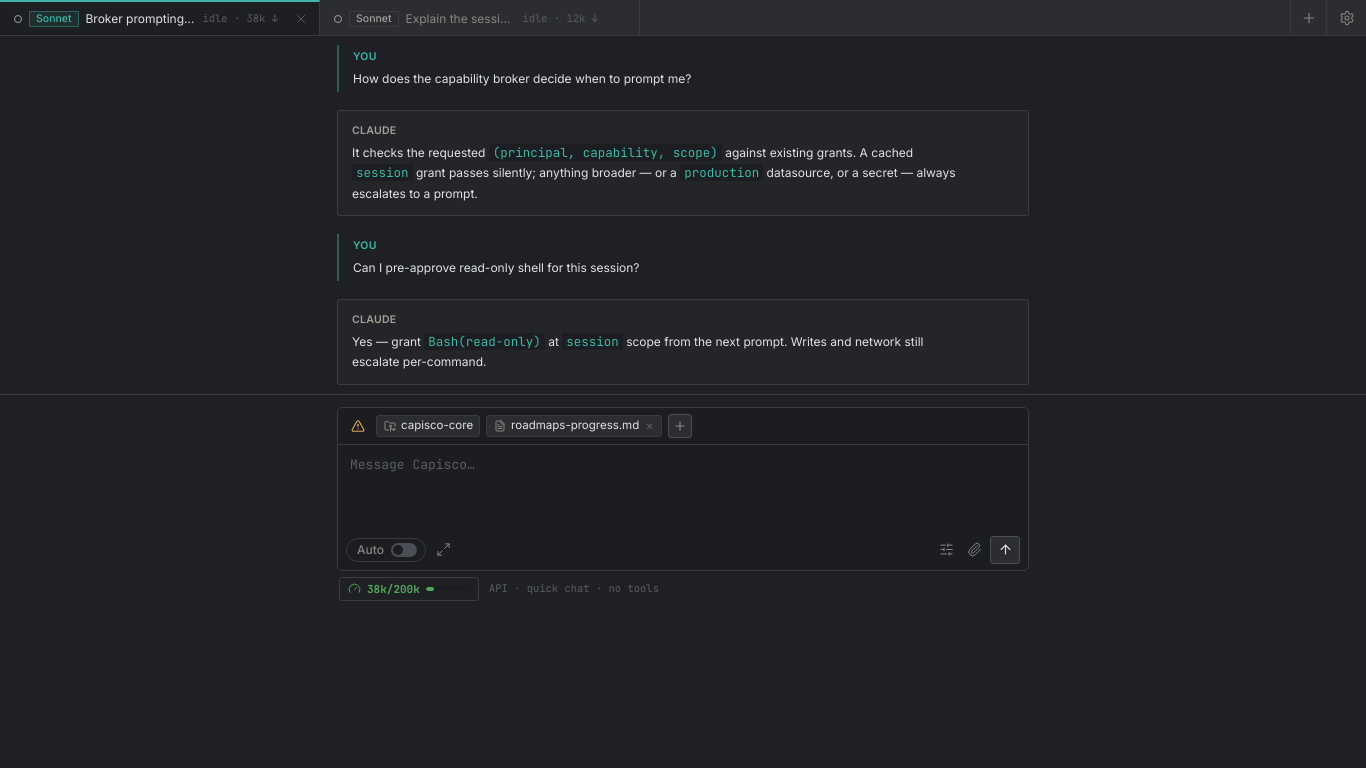
Test: ChatWorkspace — parameterized Agents component (Design-Sync P3) › creates a chat session titled 'New chat' (not 'New session')
This screenshot has width=1366, height=768.
Click the button with test id "session-new".
click(1308, 18)  # box [1290,0,1326,35]
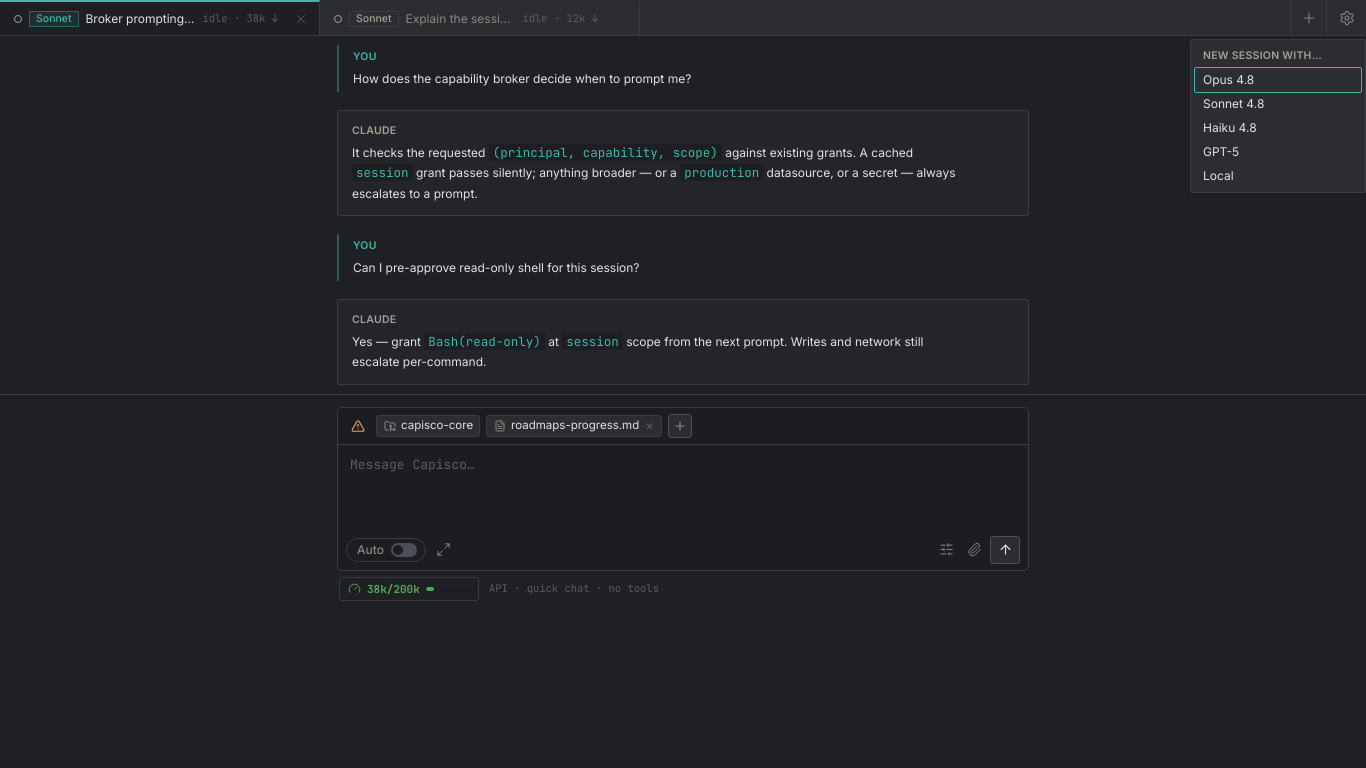
Click the button with test id "session-new-opt-Haiku 4.8".
click(1278, 128)  # box [1195,116,1361,140]
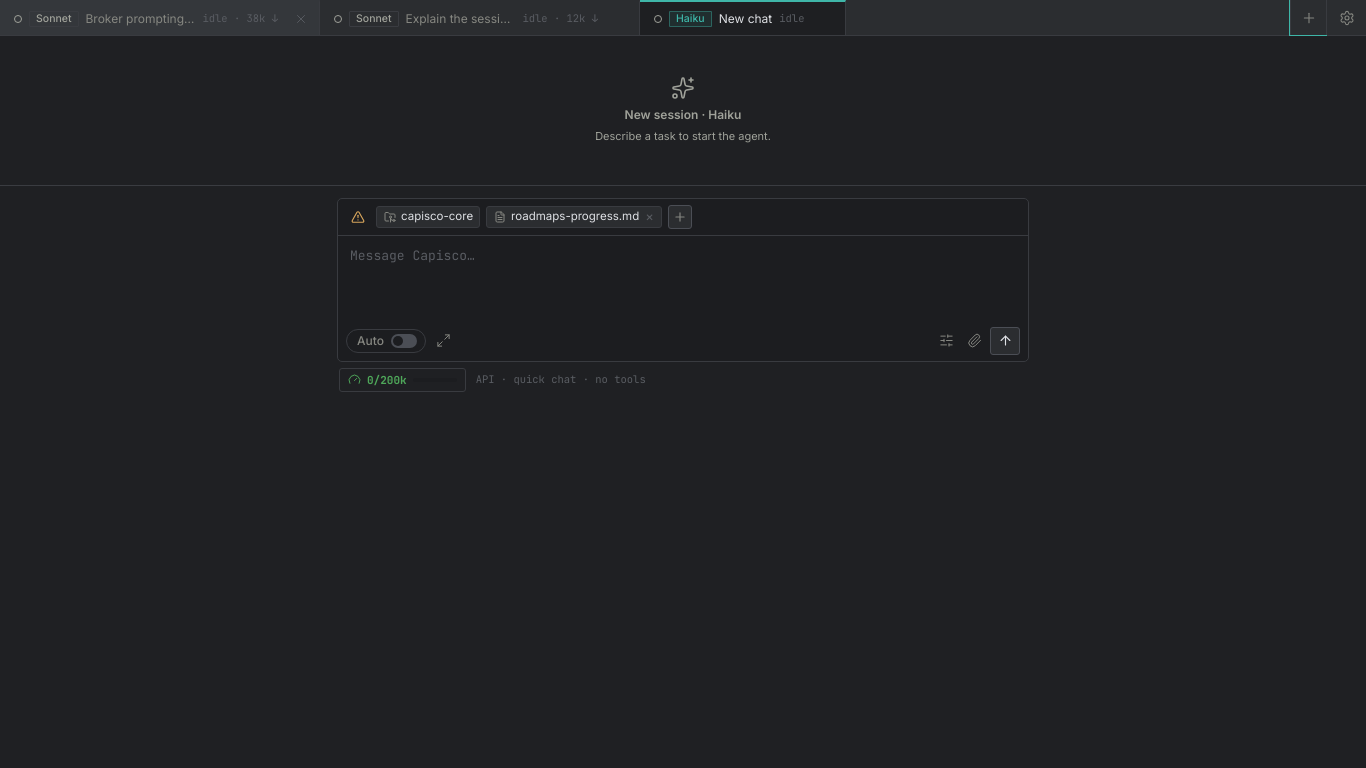
Expected: the text "New chat" is shown, [719,10,772,28]
